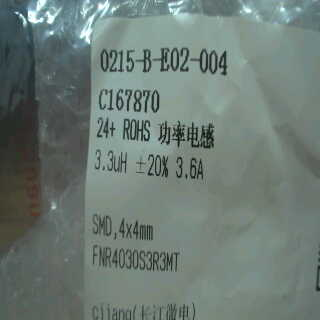3.3uH: (87, 144, 132, 175)
